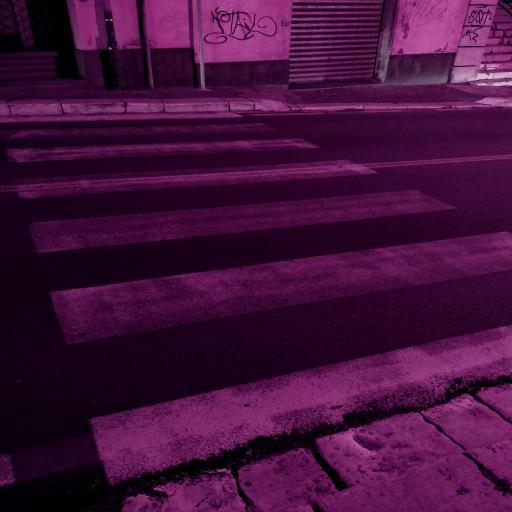crosswalk: (8, 154, 462, 266)
